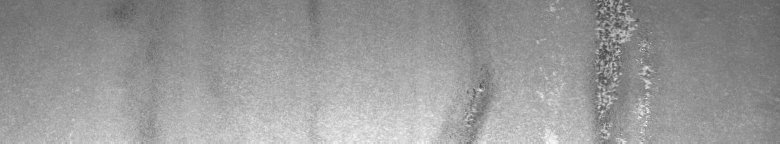hc: (547, 4, 660, 136)
